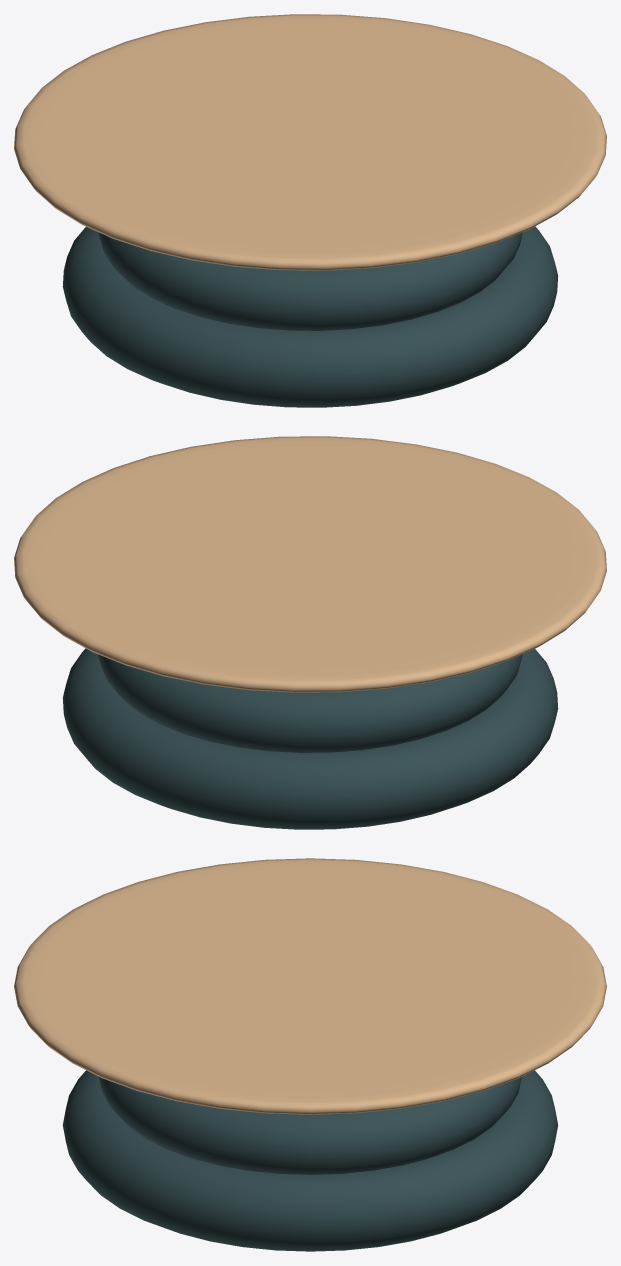
File: FI_025_round_table.glb
The picture shows the model from 3 angles, top to bottom: view 1: azimuth 30°, elevation 25°; view 2: azimuth 150°, elevation 25°; view 3: azimuth 270°, elevation 25°; orthographic projection.
Visible parts, largest first — view 1: round_table; view 2: round_table; view 3: round_table.
Part boxes in pixels (box(x1,y1,x2,y2)): round_table: box(14, 14, 606, 407); round_table: box(14, 436, 606, 829); round_table: box(14, 858, 606, 1251).
Size of the model in its own units: 2.24 by 0.7501 by 2.24.
